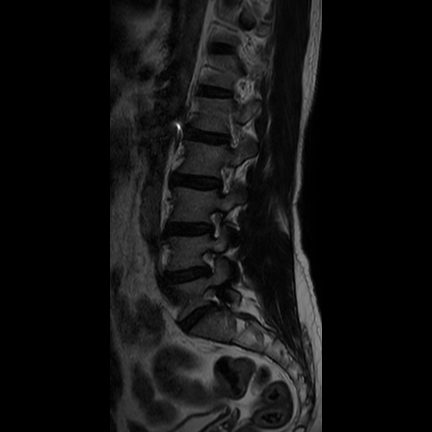LFS0: (209, 157, 238, 199), (195, 242, 227, 280), (201, 200, 229, 242), (197, 281, 231, 314)
